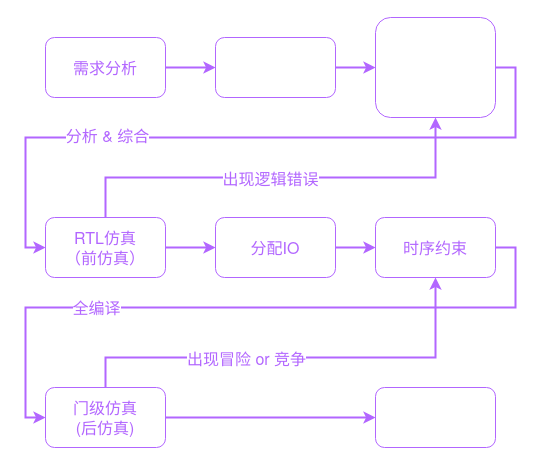
Image size: 541x465. Some labels were removed from this diagram. The centre of each missing label's shape, as x and y in pixels:
下载调试 板级验证: the point at 435,417
代码设计 or 原理图设计: the point at 435,67
模块划分: the point at 275,67
